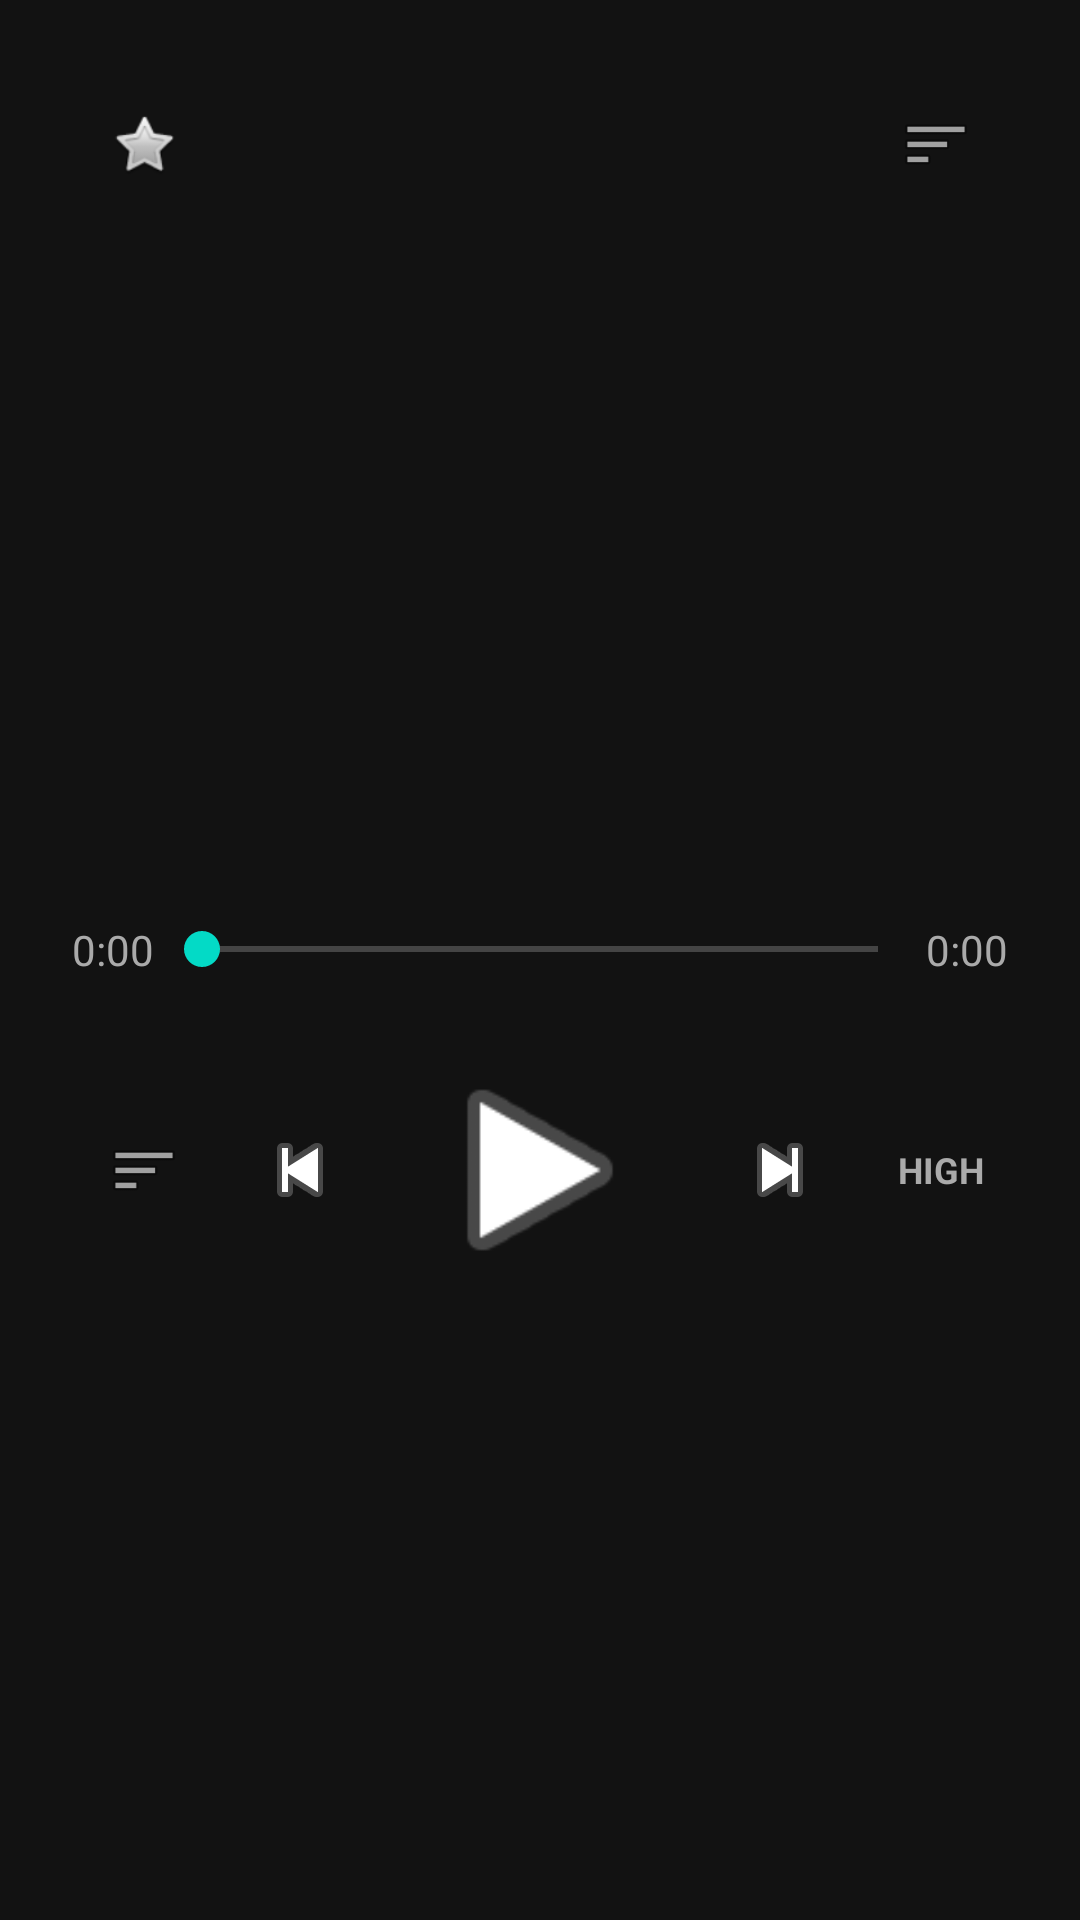

Where icons sit on this 1080px x 1920px app screen, as (x1, y1, x2, y2):
Favorite: (116, 116, 174, 171)
next: (757, 1143, 803, 1197)
play: (467, 1090, 613, 1250)
previous: (277, 1143, 323, 1197)
